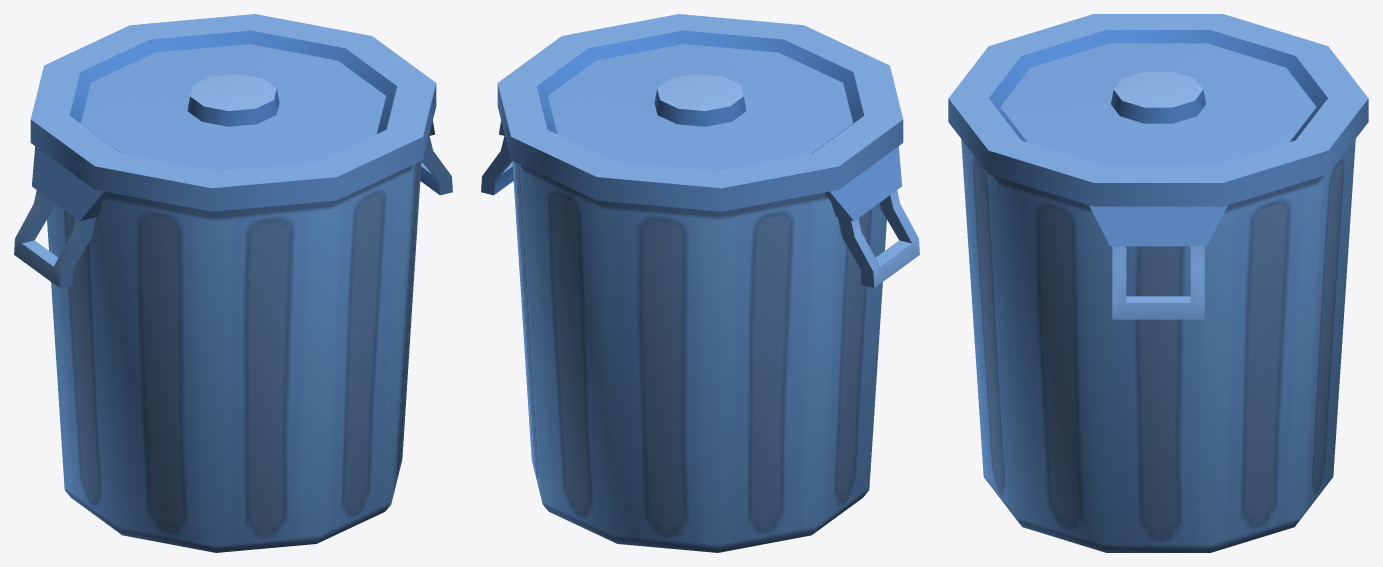
The model's file is Trash_can.FBX.
3 views of the same model, side by side, from view 1: azimuth 30°, elevation 25°; view 2: azimuth 150°, elevation 25°; view 3: azimuth 270°, elevation 25° (orthographic).
Parts seen in each view (by area): view 1: Cylinder001; view 2: Cylinder001; view 3: Cylinder001.
Part boxes in pixels (bbox=[...]): Cylinder001: bbox=[14, 14, 452, 552]; Cylinder001: bbox=[481, 14, 919, 552]; Cylinder001: bbox=[948, 14, 1368, 552].
Size of the model in its own units: 26.78 by 24.46 by 25.56.
